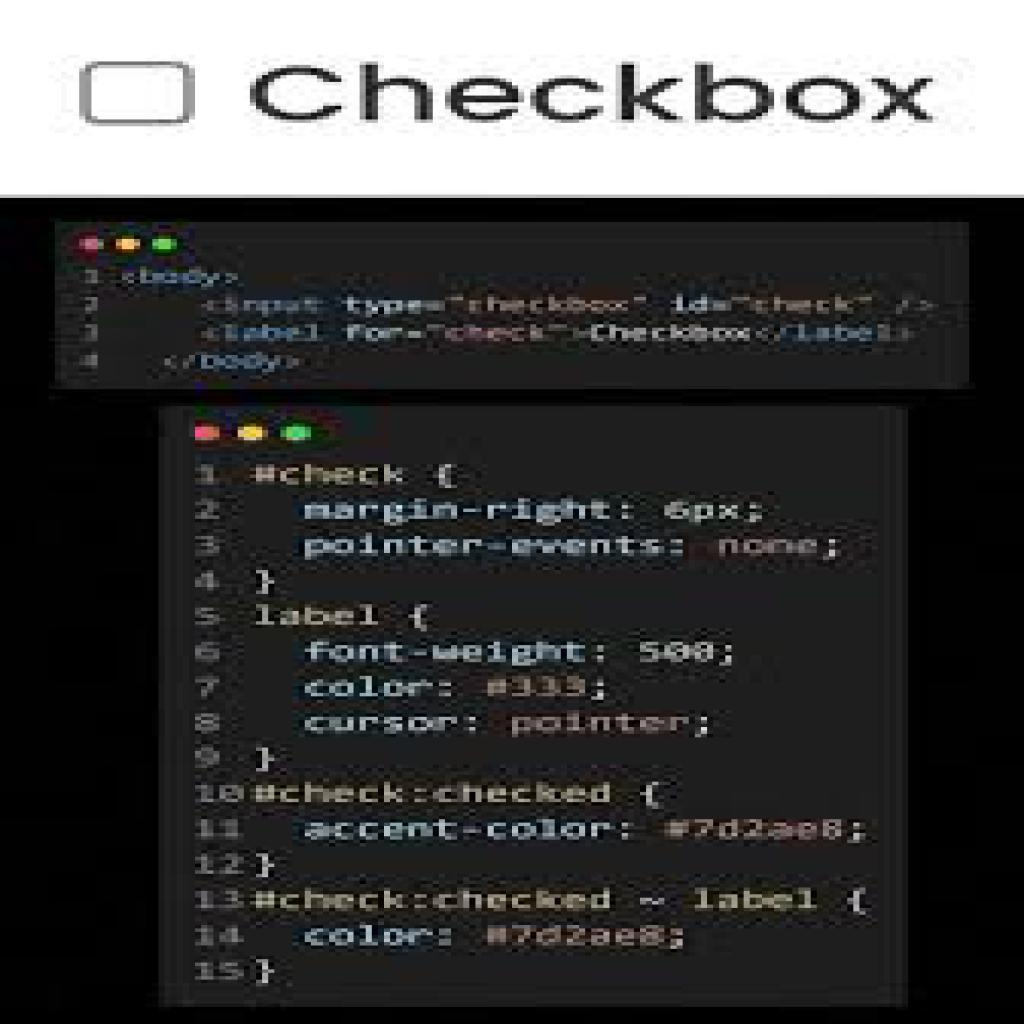checkbox: (81, 62, 197, 128)
label: (244, 58, 940, 132)
